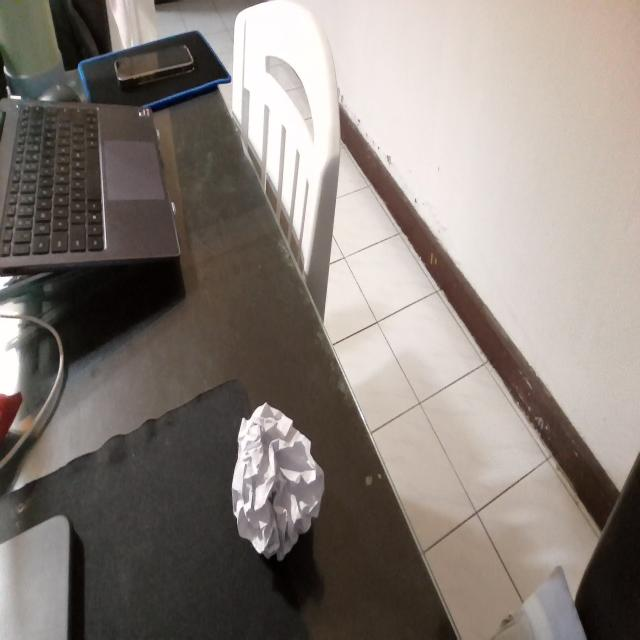crumpled_paper: (228, 397, 326, 568)
